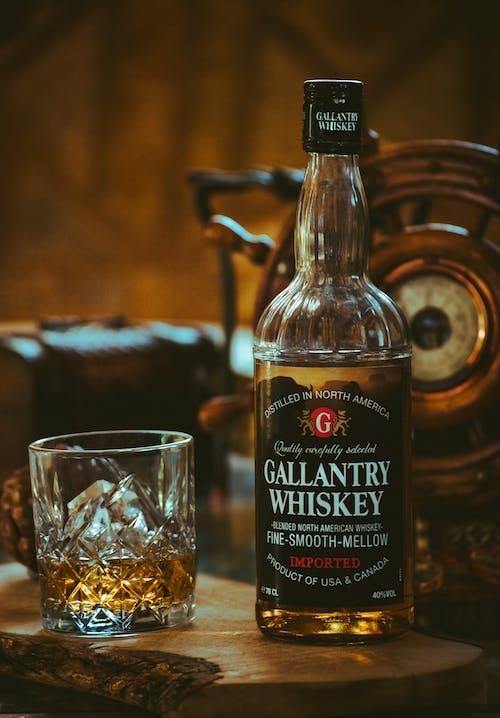alcohol: (251, 76, 414, 647), (26, 429, 199, 637)
